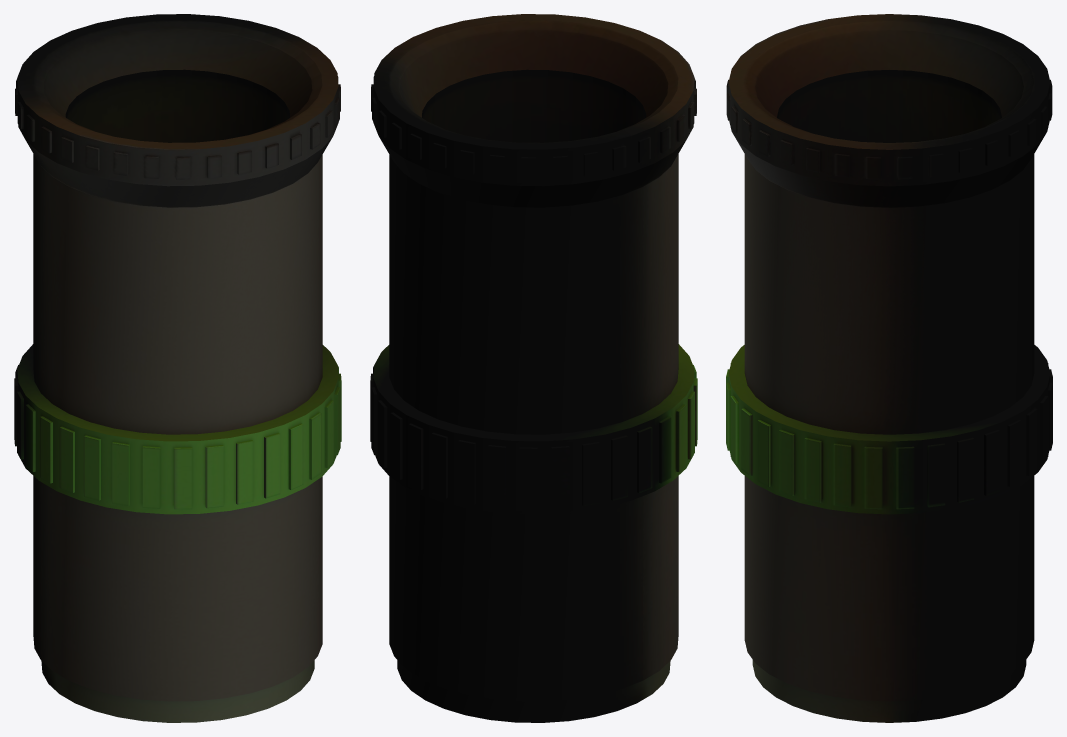
File: magnifyingglass_sam_v-2.gltf
The picture shows the model from 3 angles, left to right: view 1: azimuth 30°, elevation 25°; view 2: azimuth 150°, elevation 25°; view 3: azimuth 270°, elevation 25°; orthographic projection.
Visible parts, largest first — view 1: body; view 2: body; view 3: body.
Boxes of the visible parts, left/top/right/bottom form: body: left=14, top=14, right=341, bottom=722; body: left=370, top=14, right=697, bottom=722; body: left=726, top=14, right=1052, bottom=722.
Size of the model in its own units: 4.06 by 8 by 4.06.
1 material, 1 textured.
